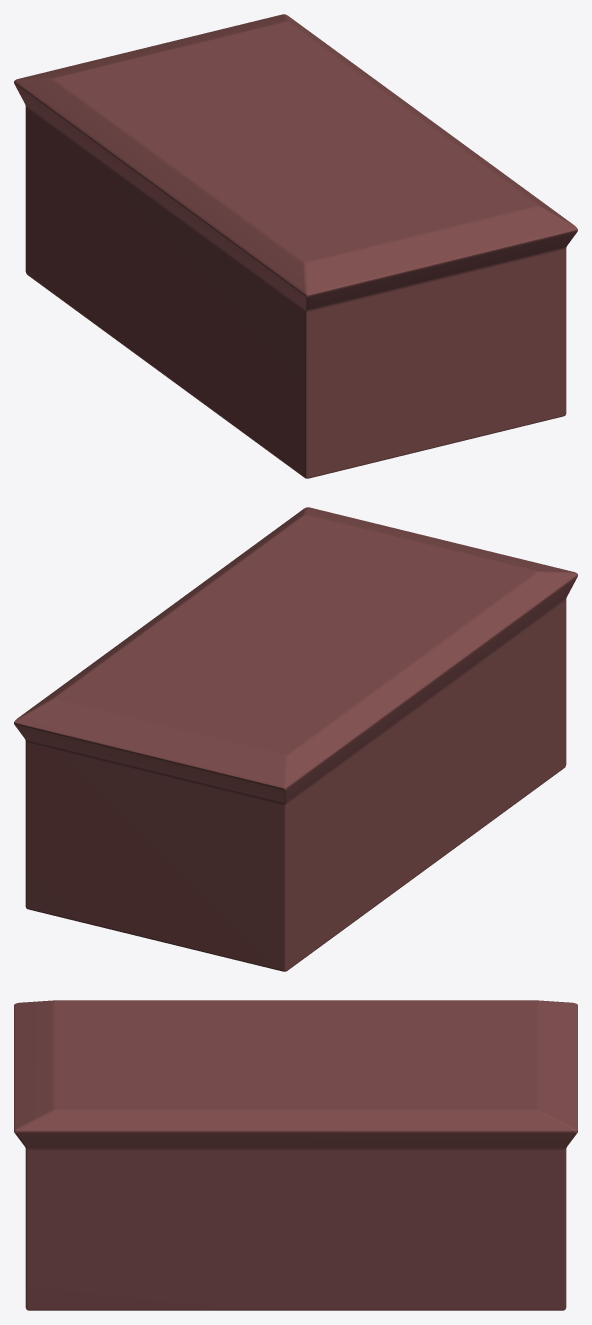
File: FBX_PlatformJump2.fbx
3 renders of one model, top to bottom at view 1: azimuth 30°, elevation 25°; view 2: azimuth 150°, elevation 25°; view 3: azimuth 270°, elevation 25°, orthographic. The views are drawn at different scales.
Visible parts, largest first — view 1: pCube3; view 2: pCube3; view 3: pCube3.
Part boxes in pixels (x1,y1,x2,y2): pCube3: [14, 14, 577, 478]; pCube3: [14, 507, 577, 971]; pCube3: [14, 1000, 577, 1310].
Size of the model in its own units: 2.12 by 1.51 by 3.95.
